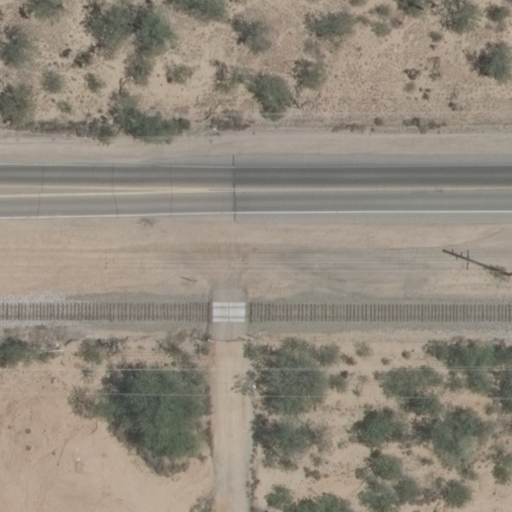DT: (502, 267, 512, 284)
